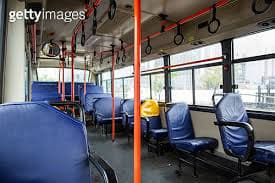seat: (165, 100, 218, 157)
